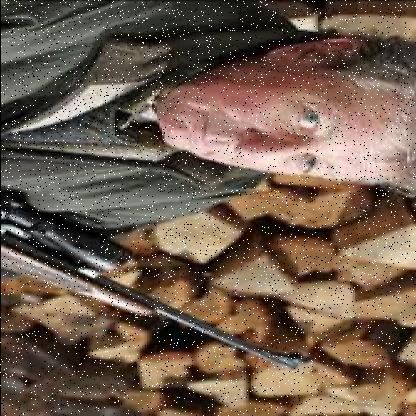rifle: (0, 188, 307, 377)
